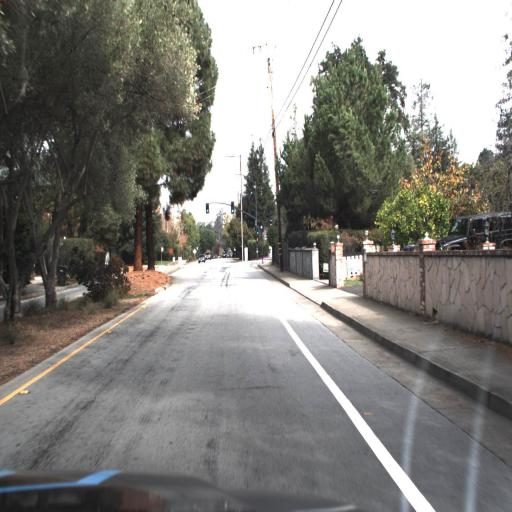car: (196, 251, 206, 269)
trafficLight-Green: (257, 217, 267, 237), (203, 198, 212, 218), (229, 197, 236, 217)
